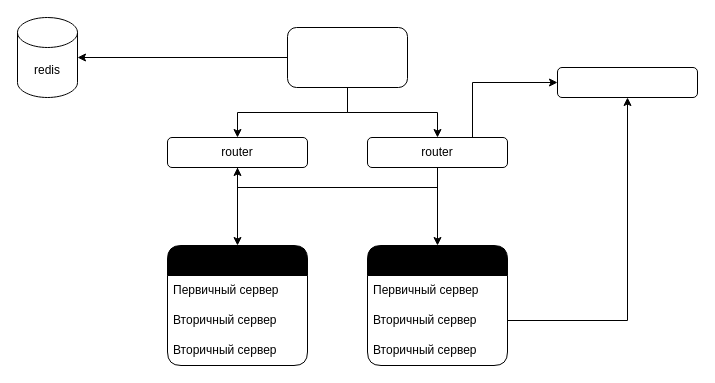
Some shapes in this 715 by 383 pixel diagram are drawn without their labels. Here are the shapes that lost their labels. From the top down, the centre of each, then its label:
At (347,57): "pymongo-api".
At (627,82): "configSrv".
